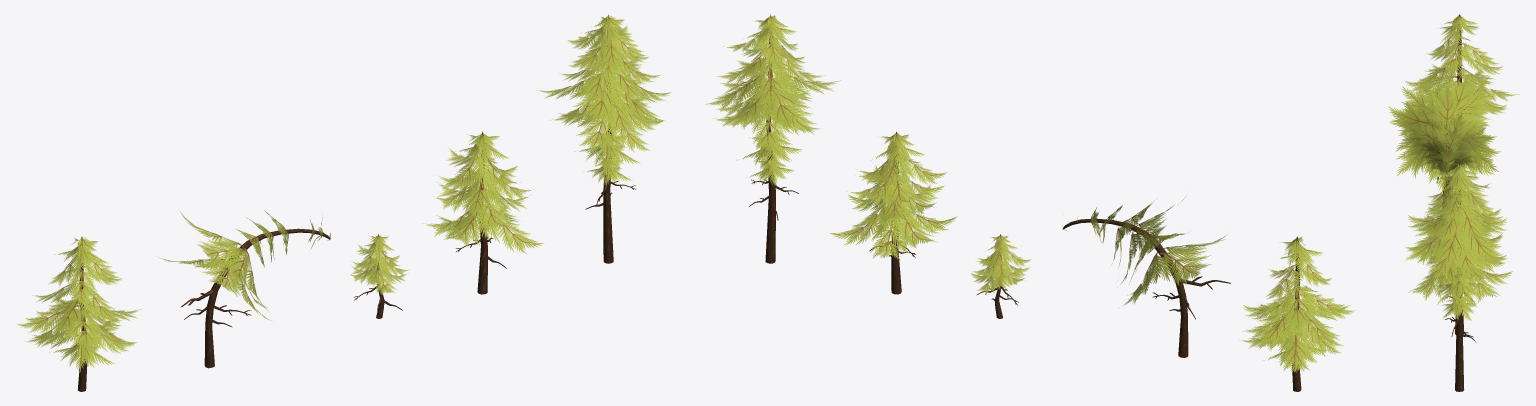
The model's file is pines.glb.
3 renders of one model, left to right at view 1: azimuth 30°, elevation 25°; view 2: azimuth 150°, elevation 25°; view 3: azimuth 270°, elevation 25°, orthographic. The views are drawn at different scales.
Visible parts, largest first — view 1: PineTree_2, PineTree_5, PineTree_1, PineTree_4, PineTree_3; view 2: PineTree_2, PineTree_1, PineTree_5, PineTree_4, PineTree_3; view 3: PineTree_2, PineTree_4, PineTree_5, PineTree_1.
Part boxes in pixels (<box>): PineTree_2: <box>536,15,671,263</box>; PineTree_5: <box>16,236,141,391</box>; PineTree_1: <box>422,131,543,294</box>; PineTree_4: <box>159,210,330,368</box>; PineTree_3: <box>350,234,408,318</box>; PineTree_2: <box>704,14,840,263</box>; PineTree_1: <box>829,131,957,294</box>; PineTree_5: <box>1239,236,1355,391</box>; PineTree_4: <box>1062,198,1230,357</box>; PineTree_3: <box>970,234,1030,318</box>; PineTree_2: <box>1405,164,1507,391</box>; PineTree_4: <box>1388,73,1500,208</box>; PineTree_5: <box>1405,14,1519,129</box>; PineTree_1: <box>1407,192,1513,334</box>.
Bounding box in the file's own units: 18.69 × 6.92 × 3.74.
2 materials, 2 textured.
